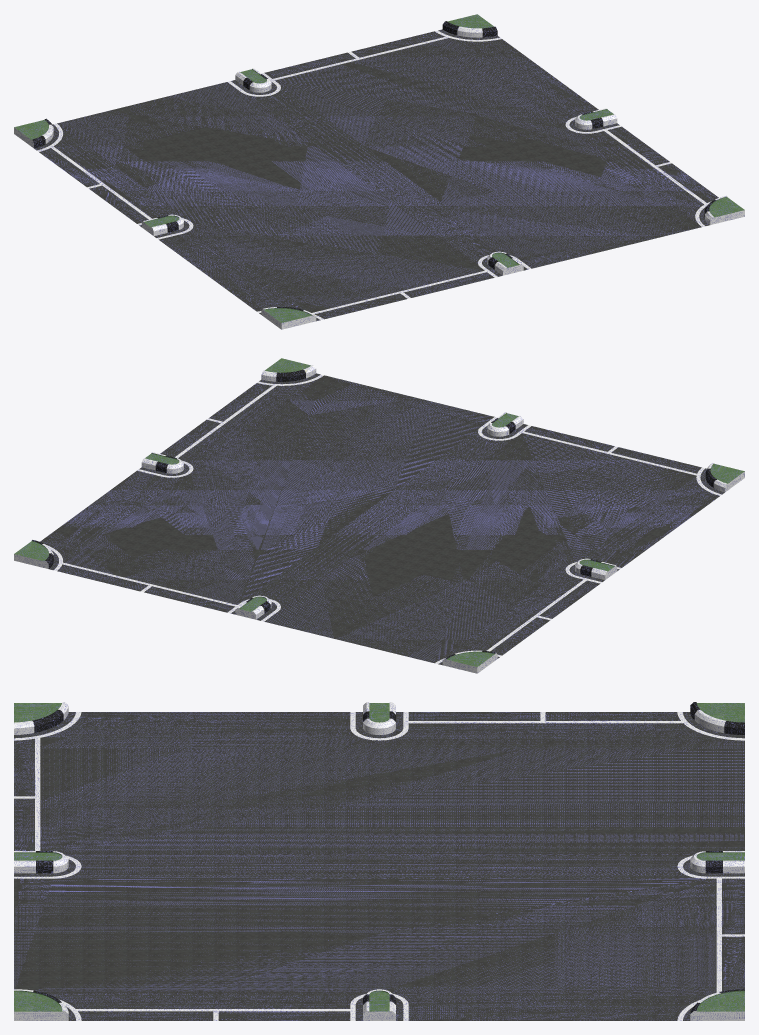
3 renders of one model, top to bottom at view 1: azimuth 30°, elevation 25°; view 2: azimuth 150°, elevation 25°; view 3: azimuth 270°, elevation 25°, orthographic. The views are drawn at different scales.
Visible parts, largest first — view 1: SketchUp (×13); view 2: SketchUp (×13); view 3: SketchUp (×19).
Boxes of the visible parts, x1,y1,x2,y2 form: SketchUp (×13): (37,30,718,319); SketchUp (×13): (40,374,721,663); SketchUp (×19): (14,703,744,1020).
Bounding box in the file's own units: 800 × 800 × 12.
6 materials, 2 textured.
